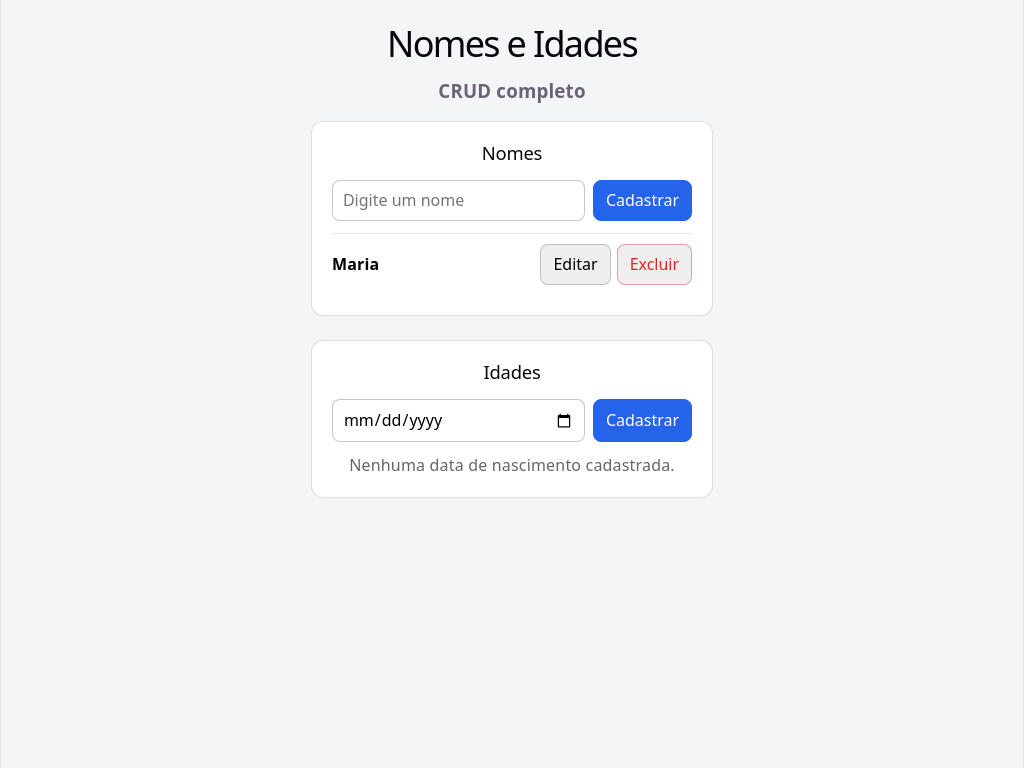
tratamento de erros › exibe a mensagem de 404 ao editar um registro que já foi removido
Expected: the text "Maria" is shown, [332, 253, 379, 276]
Click the button "Editar" at (576, 265), box [540, 244, 611, 285]
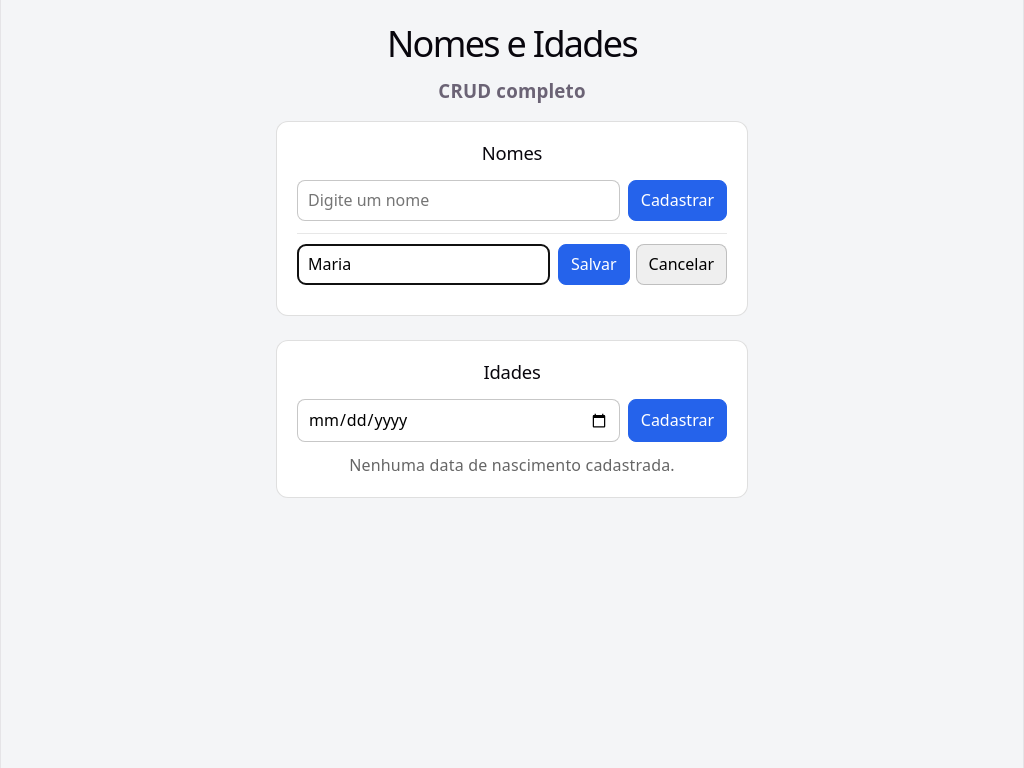
Click the button "Salvar" at (594, 265), box [558, 244, 630, 285]
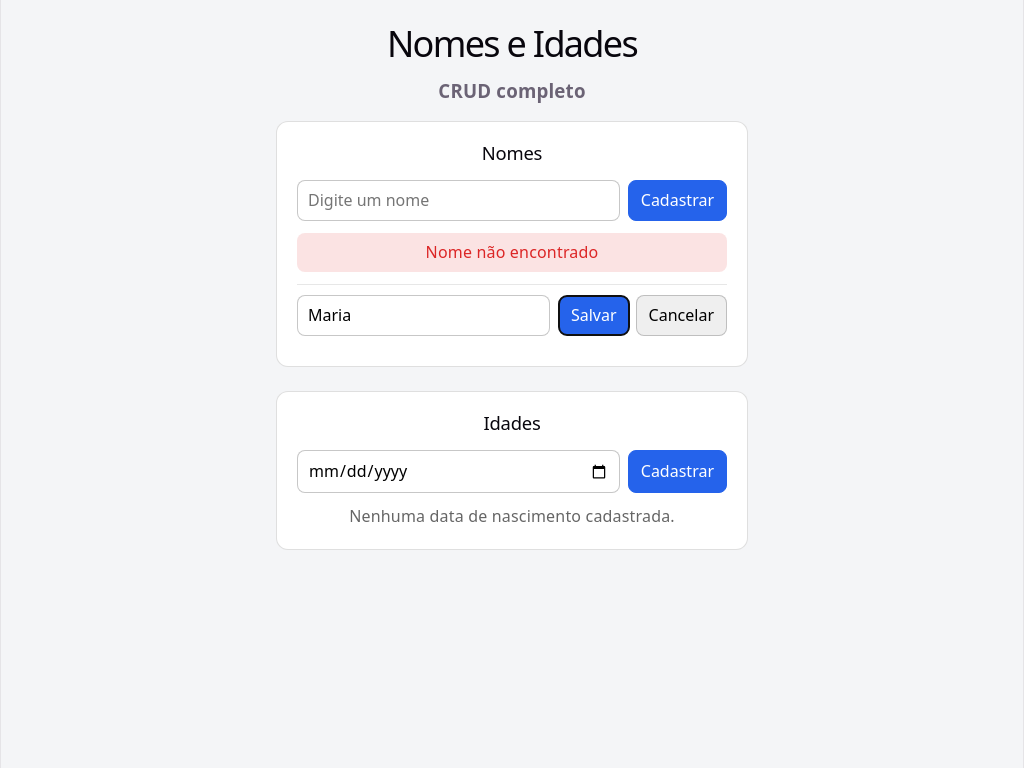
Result: the message reads "Nome não encontrado" at [426, 241, 598, 263]
